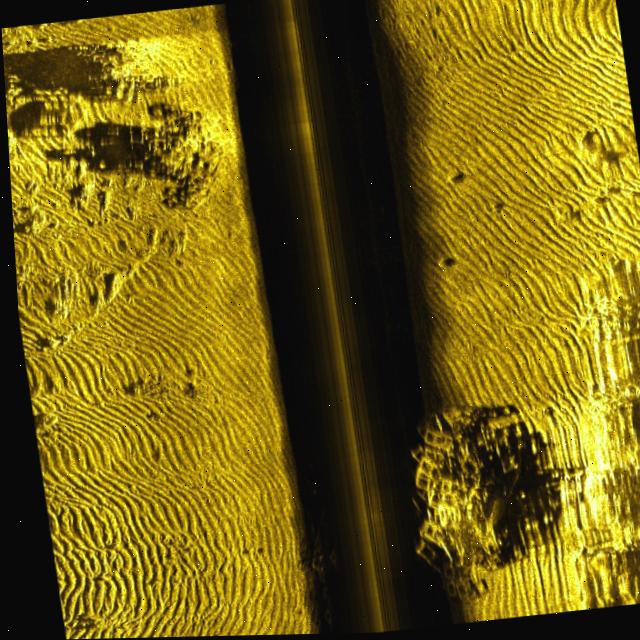artificial reef: (379, 405, 554, 619), (290, 518, 330, 621)
